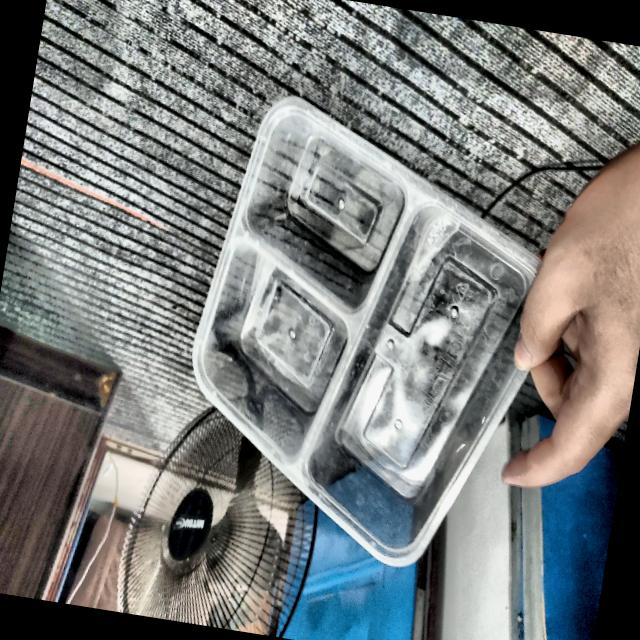plastic container: (193, 98, 539, 566)
